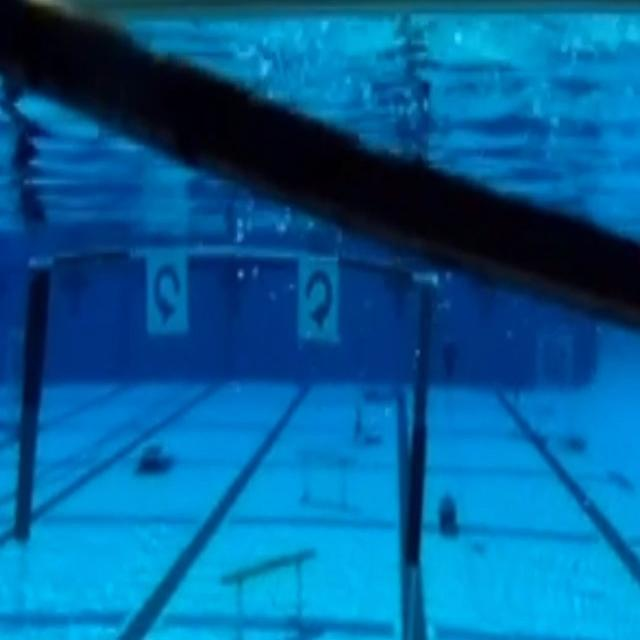Gate: (31, 241, 427, 568)
